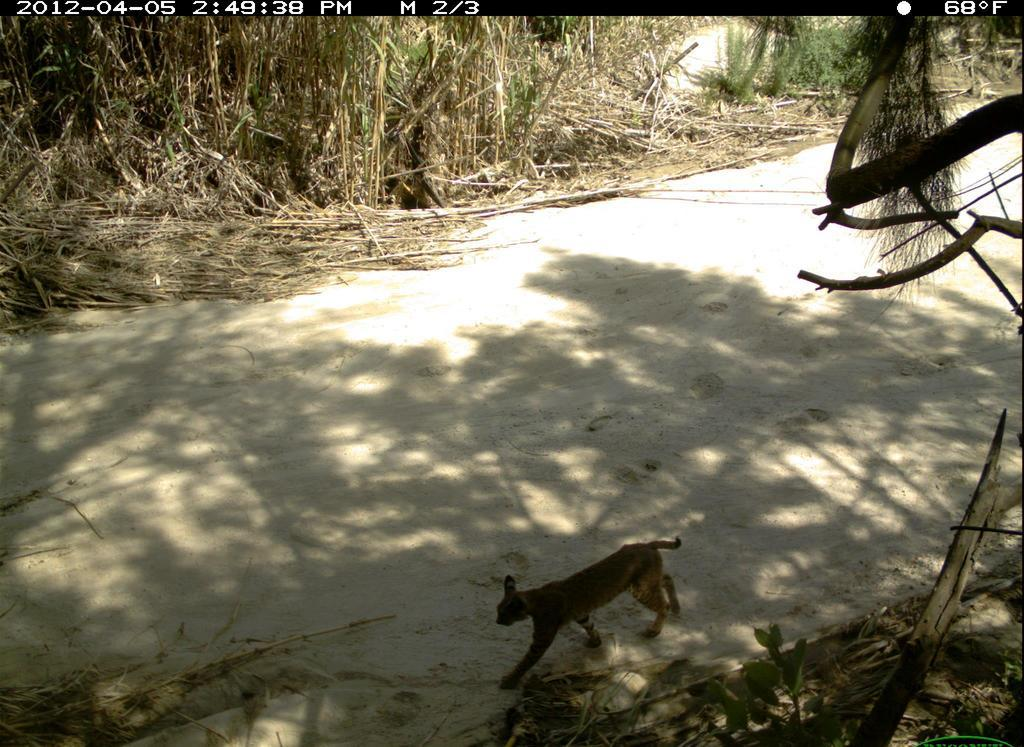bobcat: (479, 521, 703, 689)
